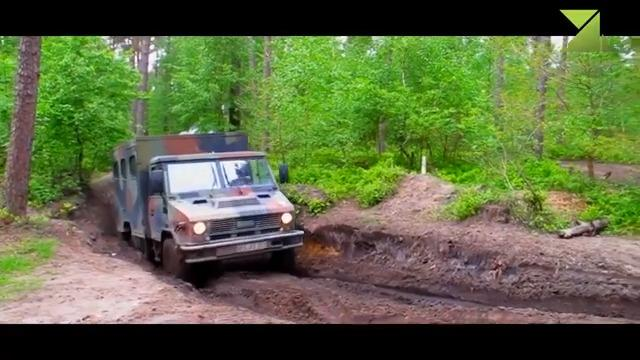MIL_HMMWV: (110, 133, 306, 274)
